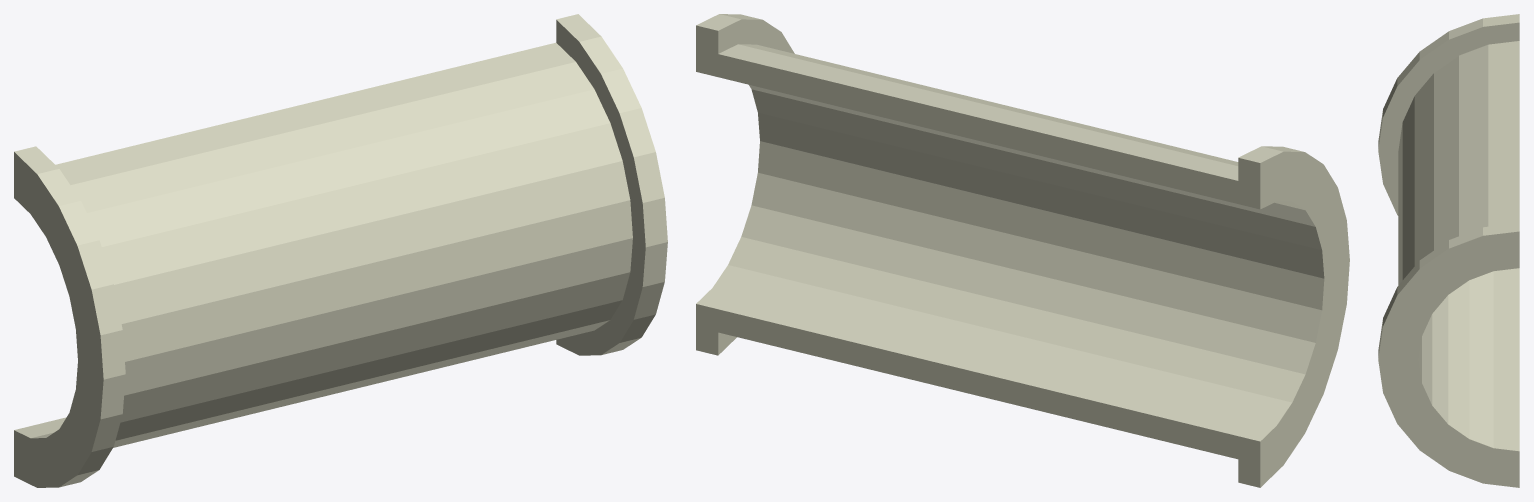
File: section_443.obj
3 renders of one model, left to right at view 1: azimuth 30°, elevation 25°; view 2: azimuth 150°, elevation 25°; view 3: azimuth 270°, elevation 25°, orthographic. The views are drawn at different scales.
Bounding box in the file's own units: 25.45 × 14 × 7.
